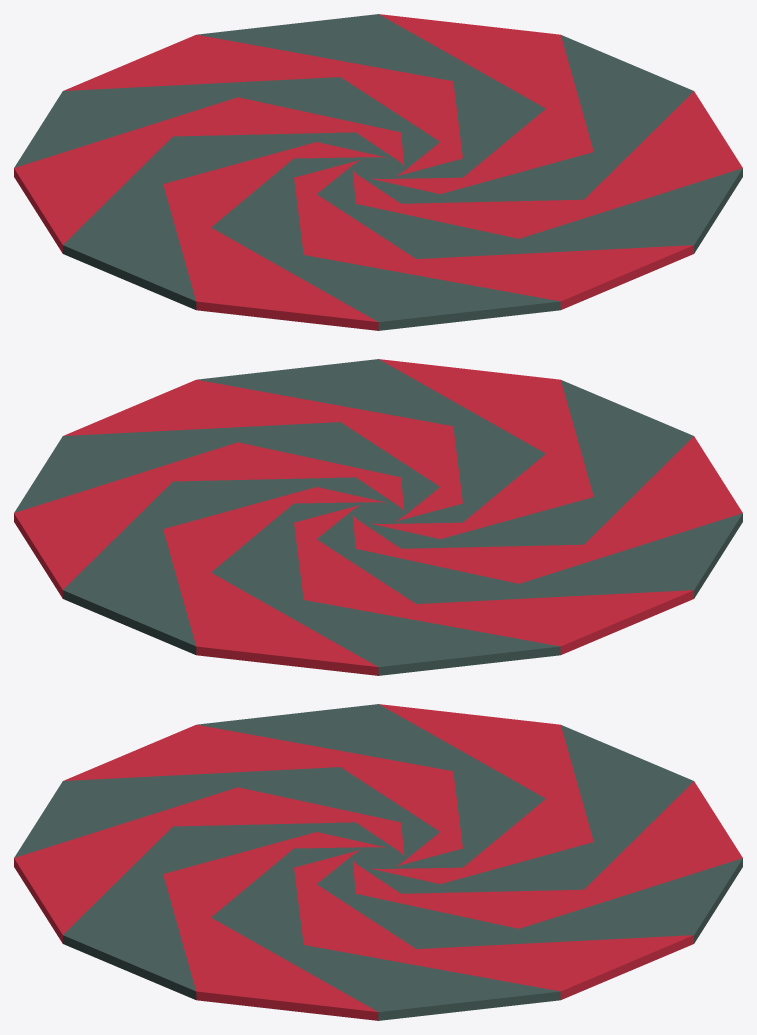
The model's file is Rug.fbx.
3 renders of one model, top to bottom at view 1: azimuth 30°, elevation 25°; view 2: azimuth 150°, elevation 25°; view 3: azimuth 270°, elevation 25°, orthographic.
Visible parts, largest first — view 1: Rug; view 2: Rug; view 3: Rug.
Boxes of the visible parts, <box> form: Rug: <box>14,14,742,330</box>; Rug: <box>14,359,742,675</box>; Rug: <box>14,704,742,1020</box>.
Bounding box in the file's own units: 3000 × 40 × 3000.
